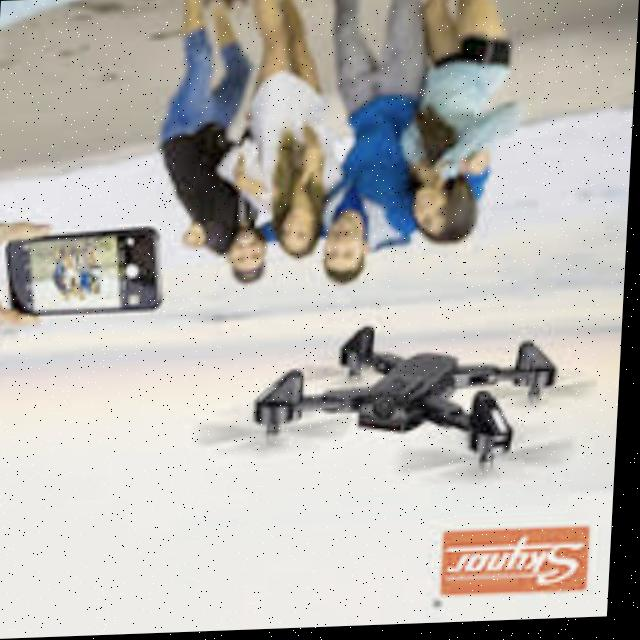drone: (204, 288, 603, 503)
